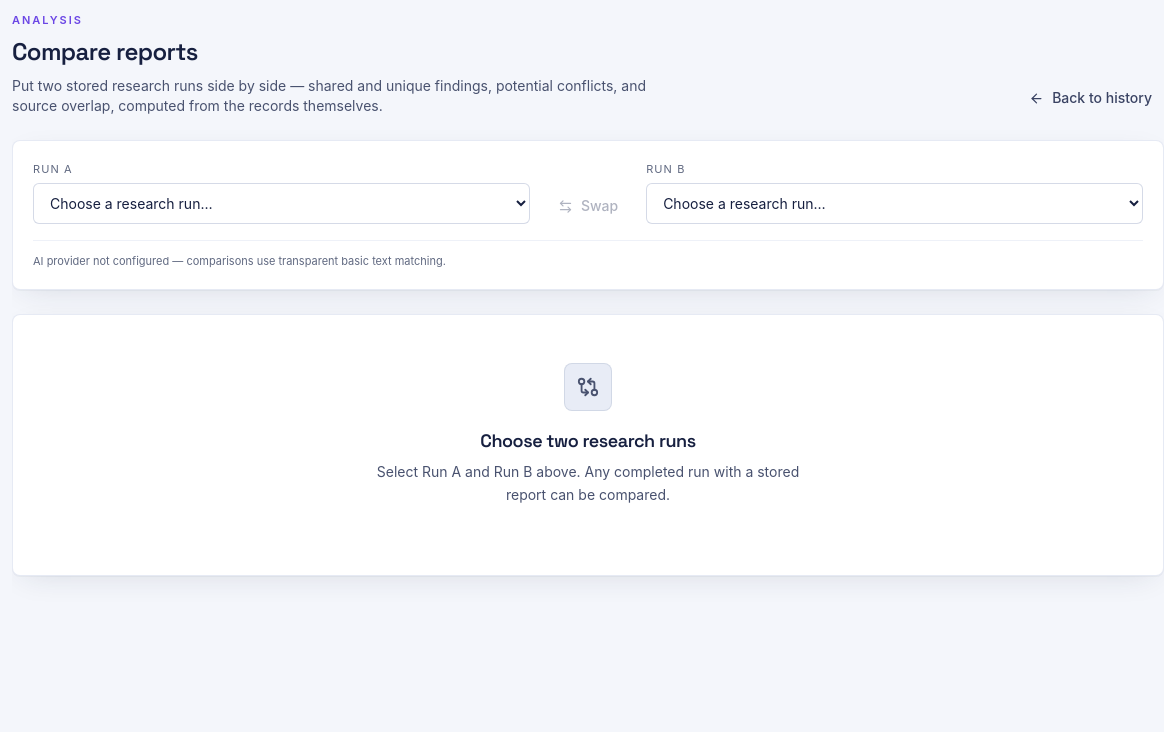
it: Compare page › shows an error state when the comparison fails
Expected: the heading "Choose two research runs" is shown, top-left (480, 427), bottom-right (696, 455)
Select "query alpha — Jan 1, 2026 · run-a" in the dropdown labelled "Run A" at (281, 204), box top-left (33, 183), bottom-right (530, 224)
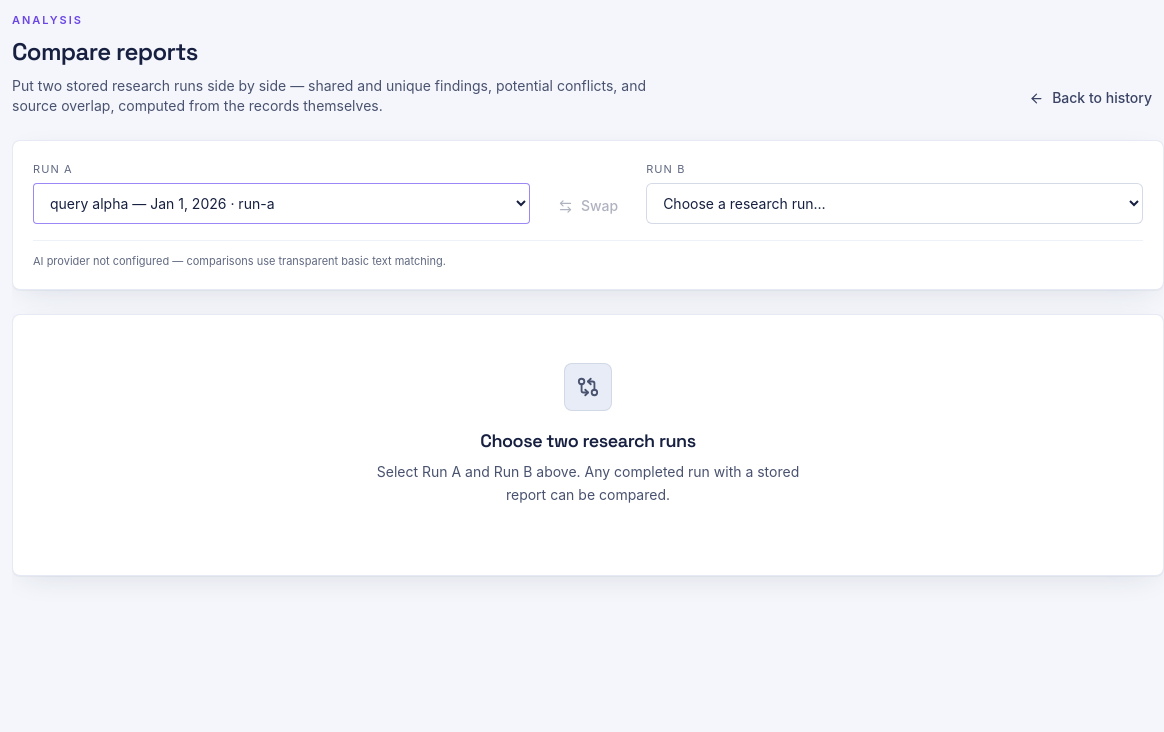
Select "query beta — Jan 1, 2026 · run-b" in the dropdown labelled "Run B" at (895, 204), box top-left (646, 183), bottom-right (1143, 224)
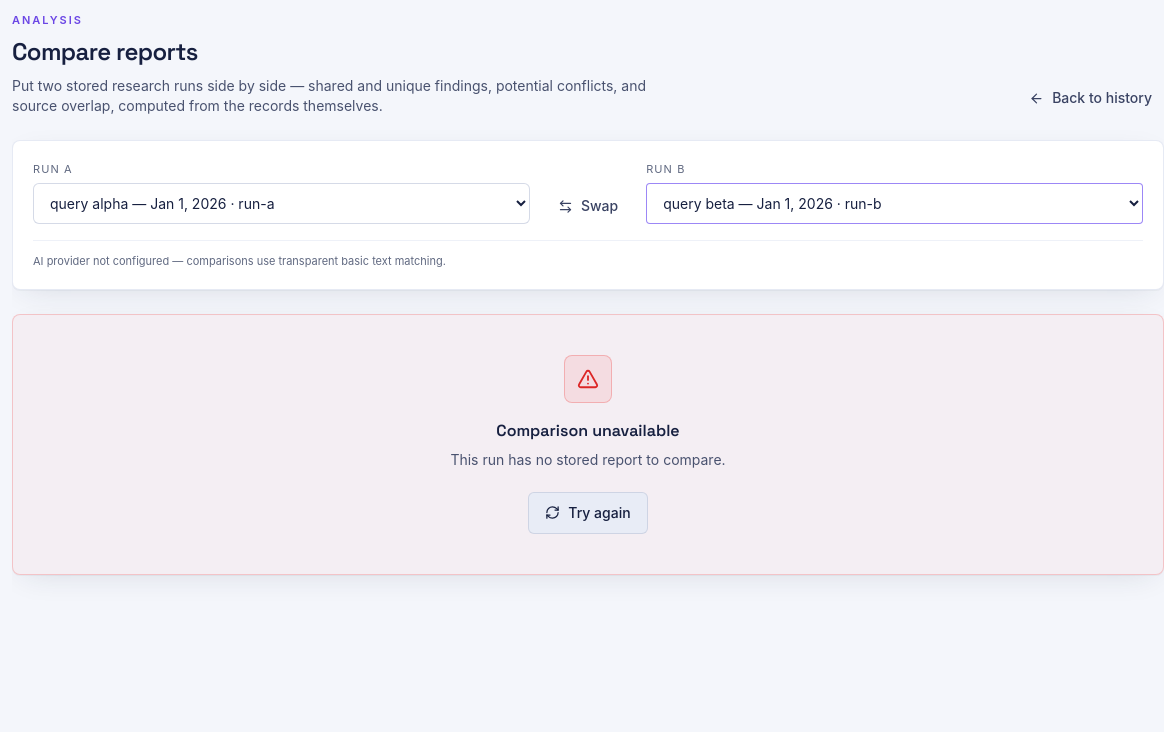
Expected: the heading "Comparison unavailable" is shown, top-left (496, 419), bottom-right (680, 443)
Expected: the text "This run has no stored report to compare." is shown, top-left (450, 449), bottom-right (726, 472)
